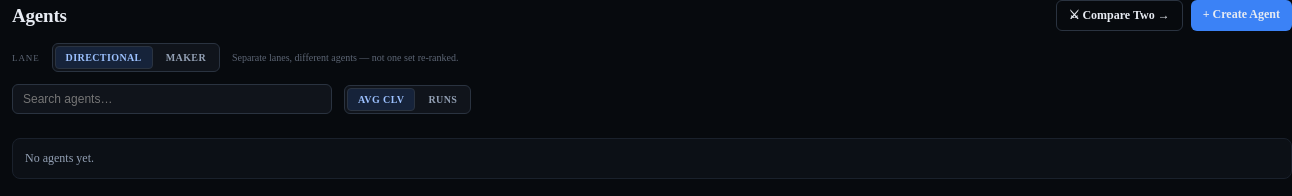
Test: AgentsScreen — live maker result loading (F-9) › renders an honest empty state when the API leaderboard has no maker agents
Click the radio button labelled "Maker".
click(186, 58)  # box [155,46,217,69]
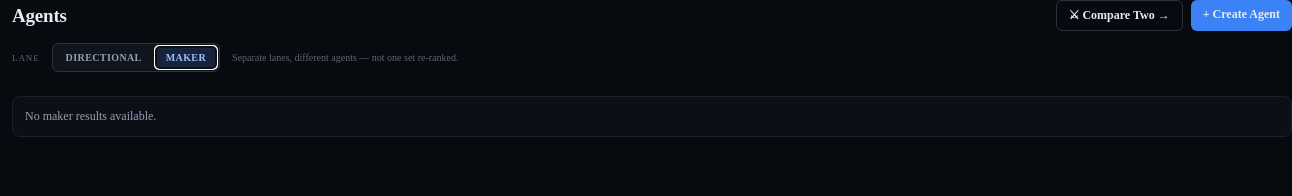
Expected: the text with test id "maker-empty" shows "No maker results available", [25,109,156,123]
